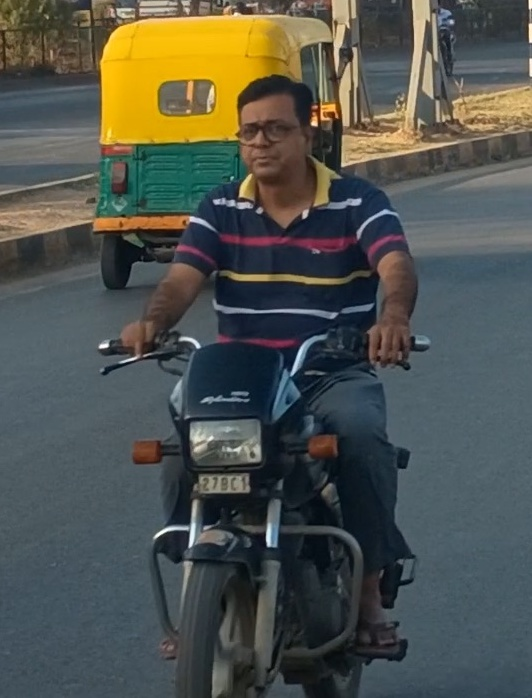BikeWithRider: (81, 71, 456, 698)
NoHelmet: (223, 67, 326, 197)
